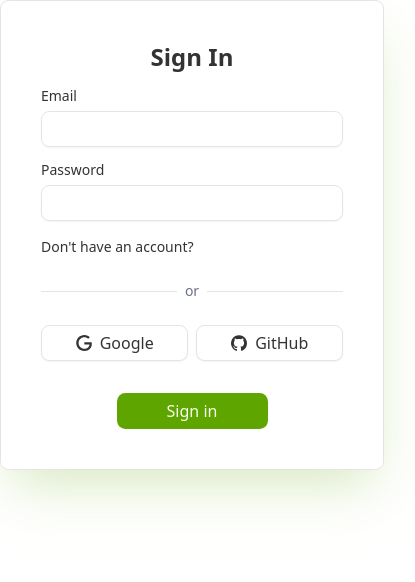
Test: SignInForm component test › Form validation › Should show required field when submitting empty form
This screenshot has width=415, height=582.
Click the button with test id "signIn-submit" at coordinates (192, 411), box x1=116 y1=393 x2=268 y2=429
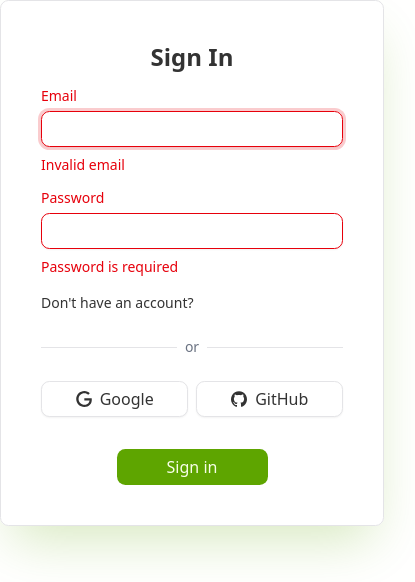
Expected: the text "Invalid email" is shown, x1=41 y1=155 x2=125 y2=174
Expected: the text "Password is required" is shown, x1=41 y1=257 x2=178 y2=276
